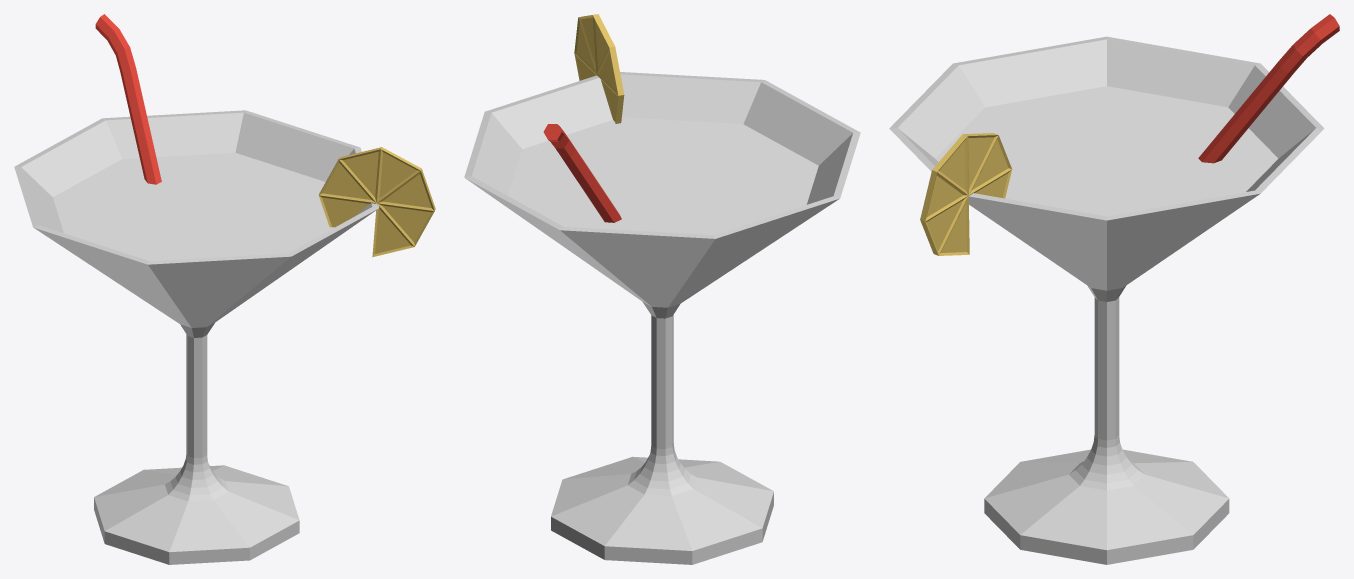
The model's file is Copa_3_2.fbx.
3 renders of one model, left to right at view 1: azimuth 30°, elevation 25°; view 2: azimuth 150°, elevation 25°; view 3: azimuth 270°, elevation 25°, orthographic. The views are drawn at different scales.
Parts seen in each view (by area): view 1: Copa_3_2, Copa_3_2.003, Copa_3_2.001, Copa_3_2.002; view 2: Copa_3_2, Copa_3_2.003, Copa_3_2.001, Copa_3_2.002; view 3: Copa_3_2, Copa_3_2.003, Copa_3_2.001, Copa_3_2.002.
Part boxes in pixels (box(x1,y1,x2,y2)): Copa_3_2: box(14, 110, 379, 564); Copa_3_2.003: box(53, 152, 334, 260); Copa_3_2.001: box(318, 147, 435, 257); Copa_3_2.002: box(95, 14, 161, 184); Copa_3_2: box(464, 72, 860, 564); Copa_3_2.003: box(508, 117, 818, 234); Copa_3_2.001: box(574, 14, 624, 123); Copa_3_2.002: box(543, 124, 621, 222); Copa_3_2: box(889, 36, 1324, 564); Copa_3_2.003: box(935, 86, 1278, 216); Copa_3_2.001: box(920, 133, 1012, 255); Copa_3_2.002: box(1198, 14, 1339, 163).
Size of the model in its own units: 90.04 by 114 by 93.2.
